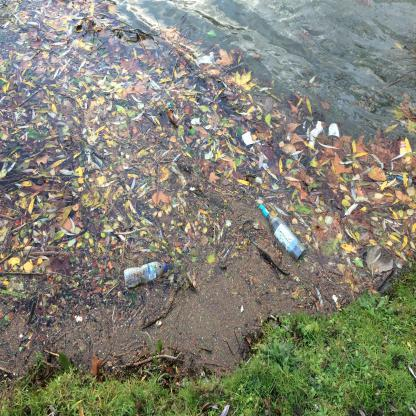glass: (258, 203, 306, 262)
plastic: (124, 261, 167, 288)
